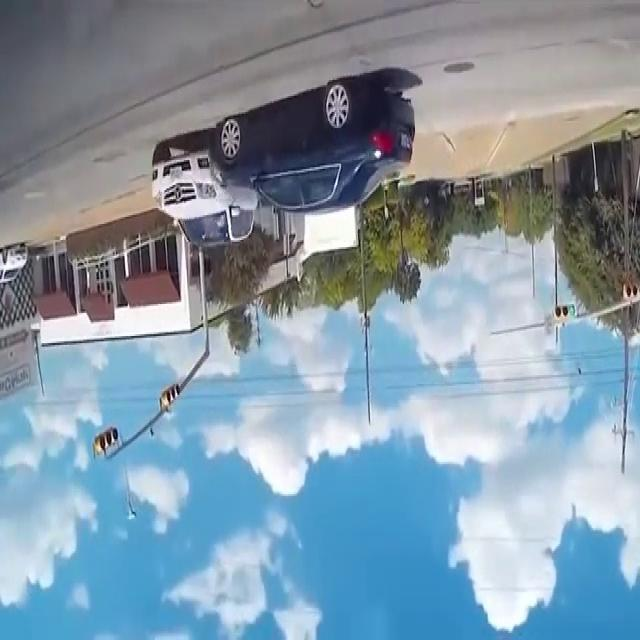moderate: (148, 68, 420, 251)
